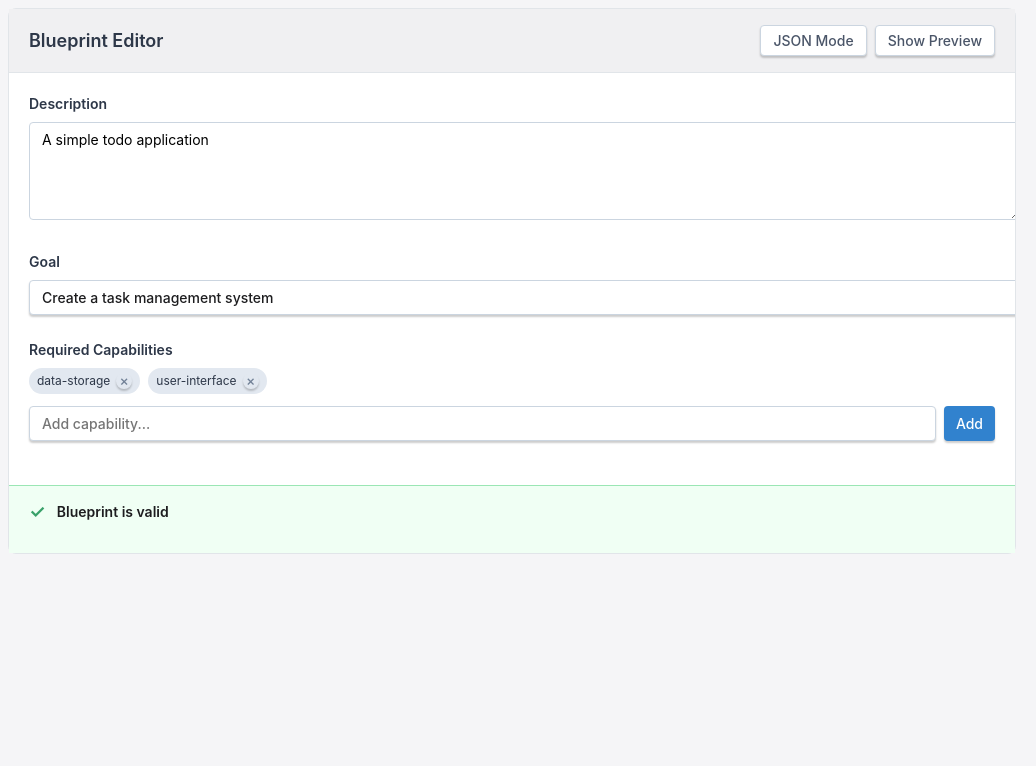
Test case: BlueprintEditor › switches to JSON mode when toggle is clicked
Click the button "JSON Mode" at (814, 40), box [760,25,867,56]
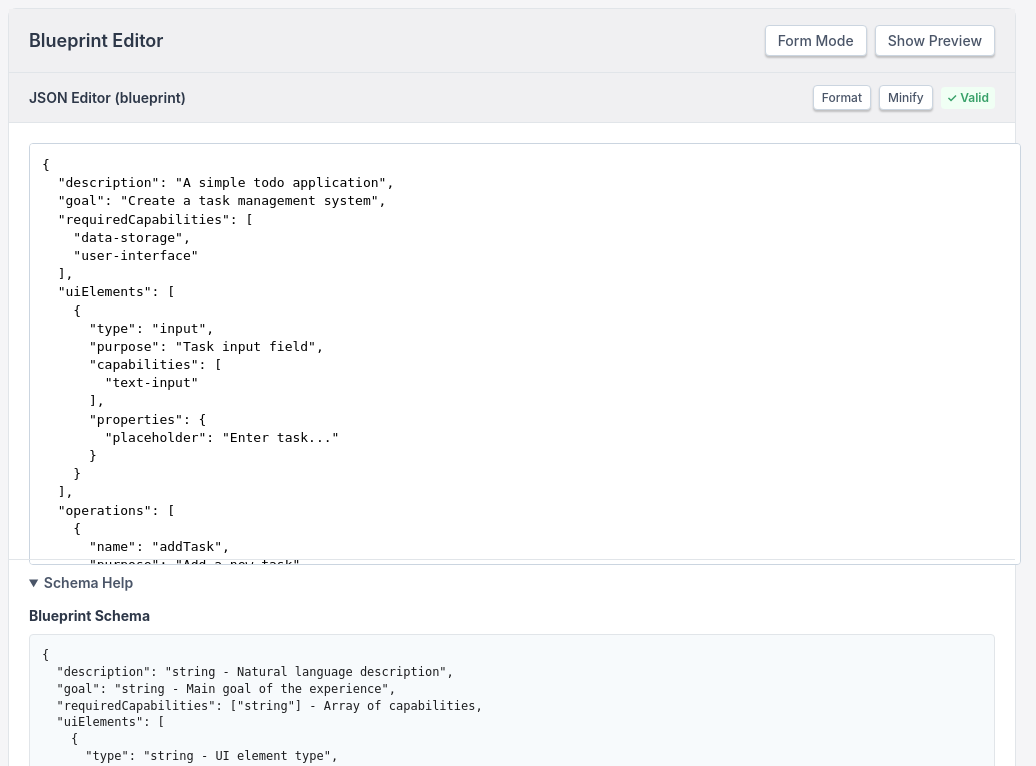
Expected: the heading "JSON Editor (blueprint)" is shown, [29,87,186,108]
Expected: the button "Form Mode" is shown, [765,25,867,56]
